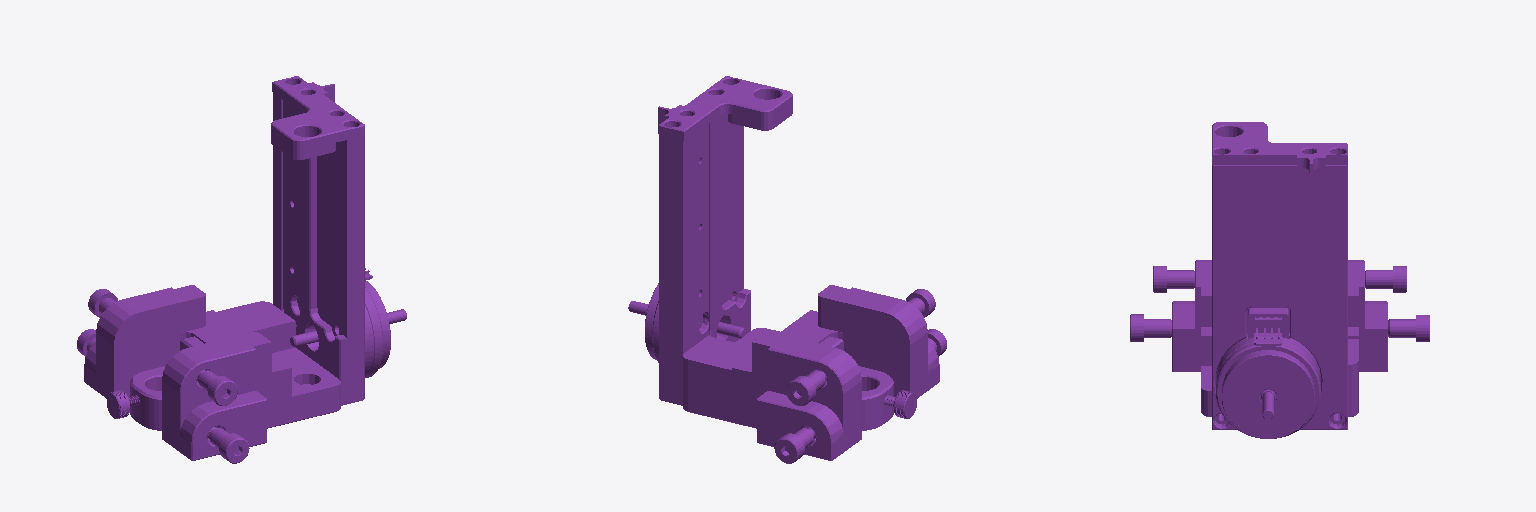
File: needle_driver_base_link.OBJ
3 renders of one model, left to right at view 1: azimuth 30°, elevation 25°; view 2: azimuth 150°, elevation 25°; view 3: azimuth 270°, elevation 25°, orthographic.
Parts seen in each view (by area): view 1: /ambf/env/neuro_robot/needle_driver_base_link_needle_driver_base; view 2: /ambf/env/neuro_robot/needle_driver_base_link_needle_driver_base; view 3: /ambf/env/neuro_robot/needle_driver_base_link_needle_driver_base.
Part boxes in pixels (bbox=[...]): /ambf/env/neuro_robot/needle_driver_base_link_needle_driver_base: bbox=[77, 76, 406, 463]; /ambf/env/neuro_robot/needle_driver_base_link_needle_driver_base: bbox=[628, 76, 946, 463]; /ambf/env/neuro_robot/needle_driver_base_link_needle_driver_base: bbox=[1130, 122, 1429, 438].
Bounding box in the file's own units: 0.1131 × 0.104 × 0.1028.